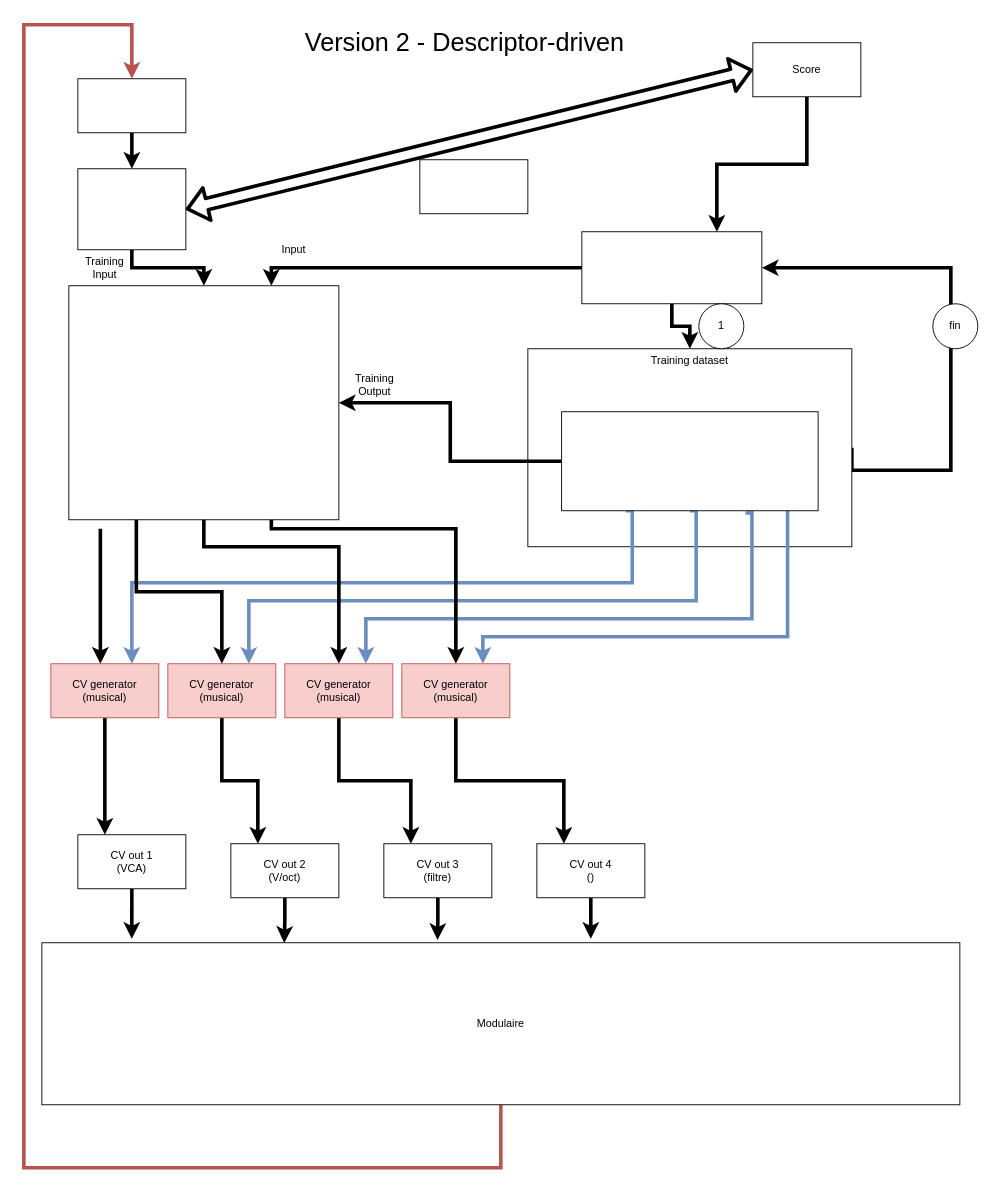
The diagram is 994 pixels wide and 1192 high, and some of its shapes have lost their labels. The centre of each missing label's shape, as x and y in pixels:
"Analyzer - descriptors" goes at (131,209).
"Audio In" goes at (131,105).
"Automate" goes at (671,267).
"Correspondance des descripteurs ?" goes at (473,186).
"Modèle variable (régression, Neural Nets, etc.)" goes at (203,402).
"Tableau CV aléatoire" goes at (689,461).
